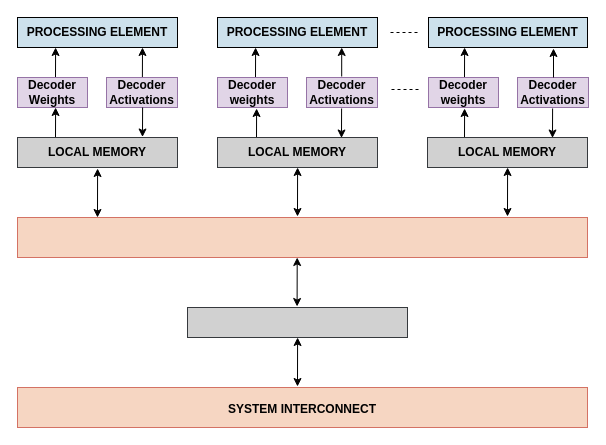
Image size: 606x445. Some labels were removed from this diagram. The centre of each missing label's shape, as x and y in pixels:
DEDICATED / UNIFIED MEMORY: (x=297, y=322)
PARALLEL / HIGH BANDWITH INTERCONNECT: (x=302, y=237)
